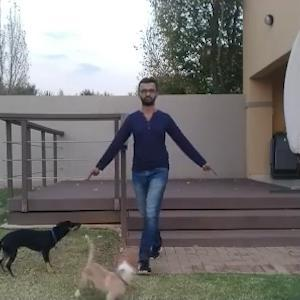land: (112, 91, 194, 244)
